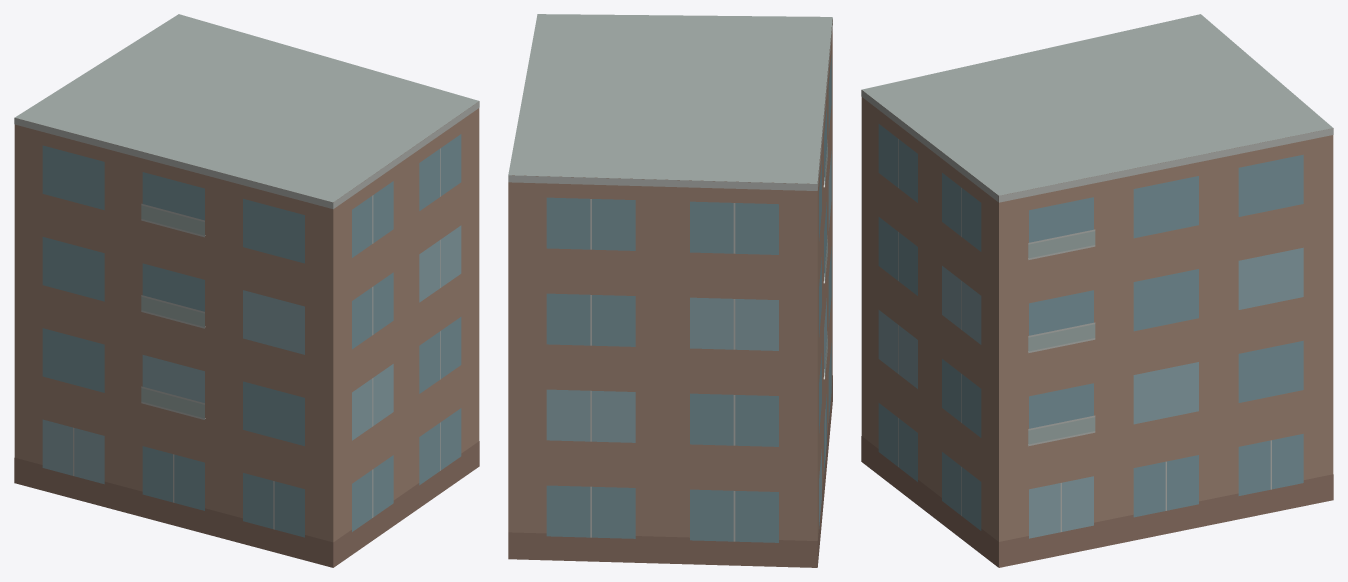
File: survey-upis-32724073.glb
The picture shows the model from 3 angles, left to right: view 1: azimuth 30°, elevation 25°; view 2: azimuth 150°, elevation 25°; view 3: azimuth 270°, elevation 25°; orthographic projection. The views are drawn at different scales.
Parts seen in each view (by area): view 1: survey-upis-32724073.tmp; view 2: survey-upis-32724073.tmp; view 3: survey-upis-32724073.tmp.
Part boxes in pixels (x1,y1,x2,y2): survey-upis-32724073.tmp: [14, 14, 479, 567]; survey-upis-32724073.tmp: [508, 14, 832, 567]; survey-upis-32724073.tmp: [861, 14, 1333, 567].
Bounding box in the file's own units: 13.78 × 13.15 × 15.12.
